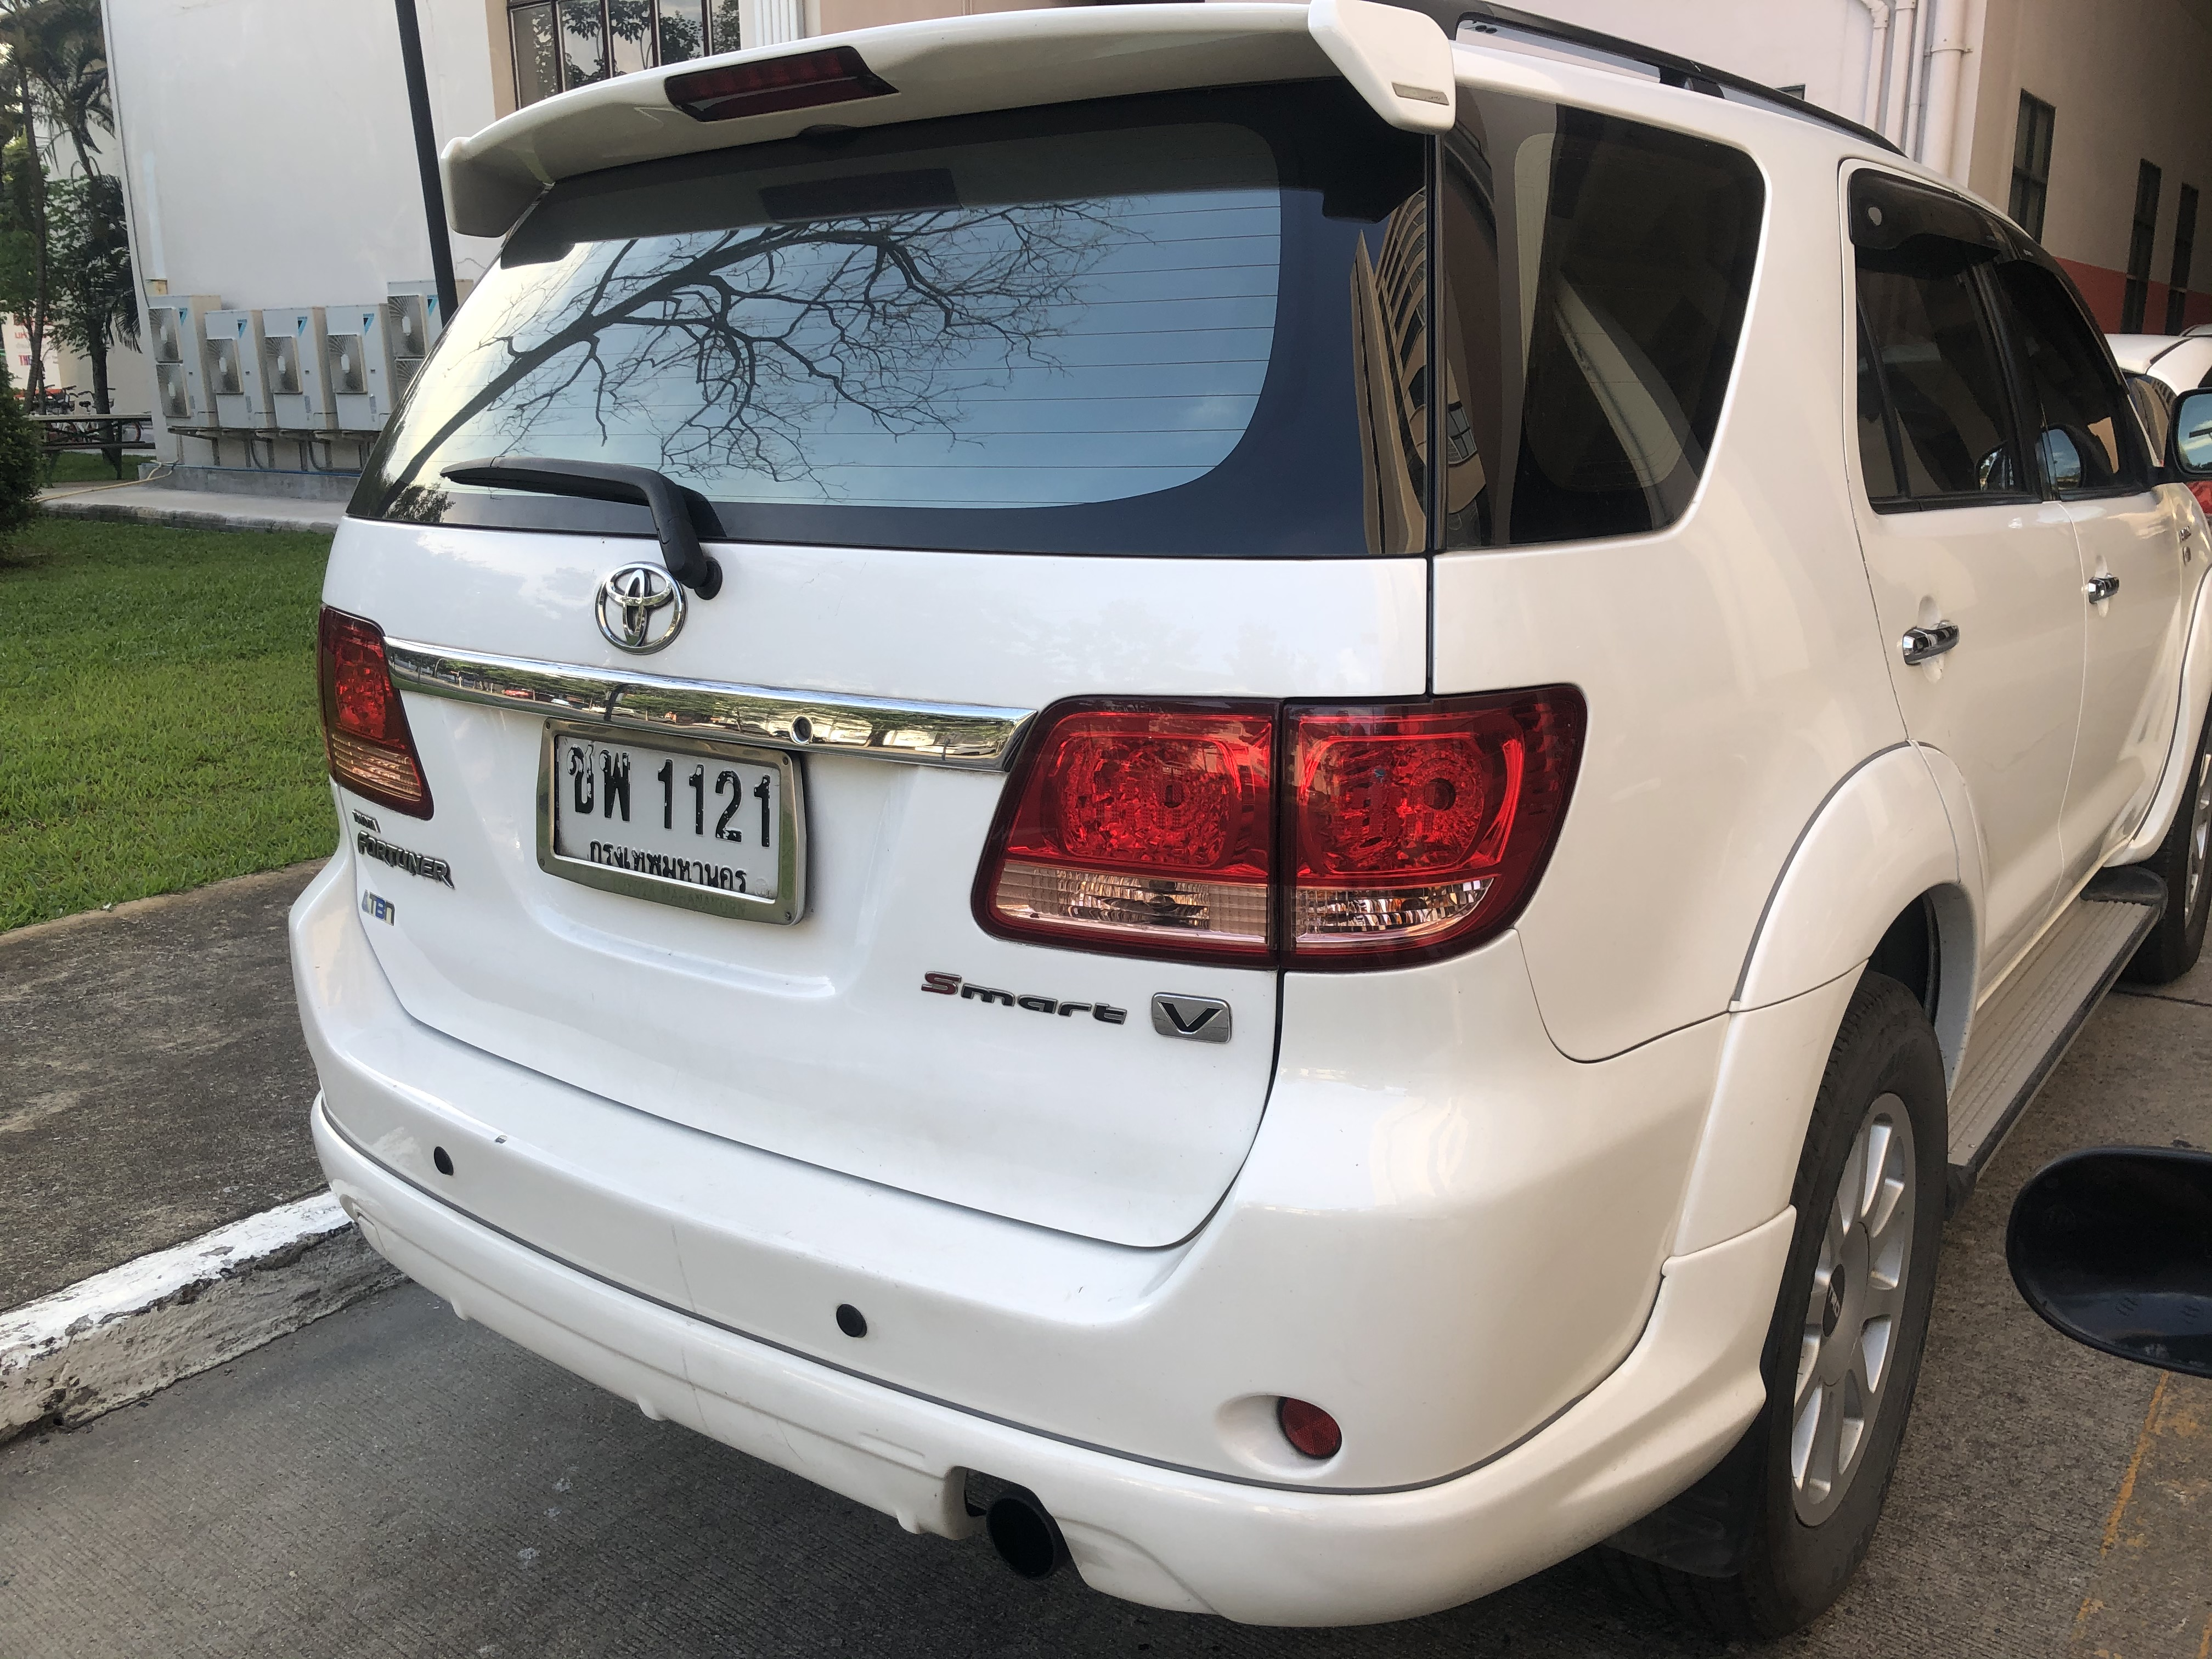in: (552, 732, 779, 904)
out: (531, 713, 817, 932)
